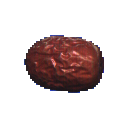gd: (18, 26, 125, 113)
